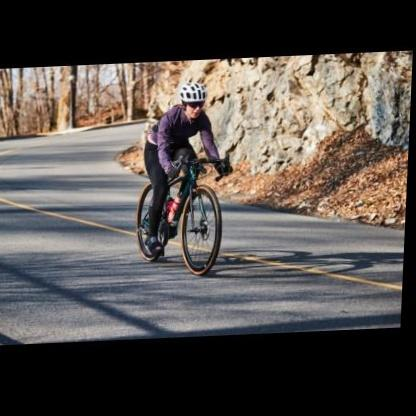Bicycle: (110, 154, 253, 283)
